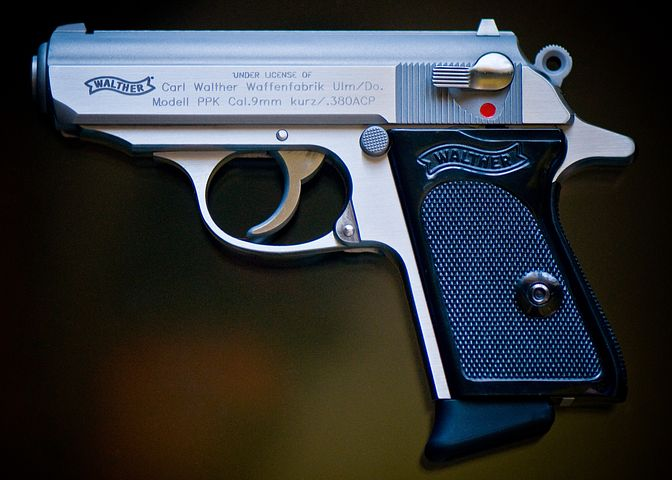gun: (27, 17, 636, 426)
